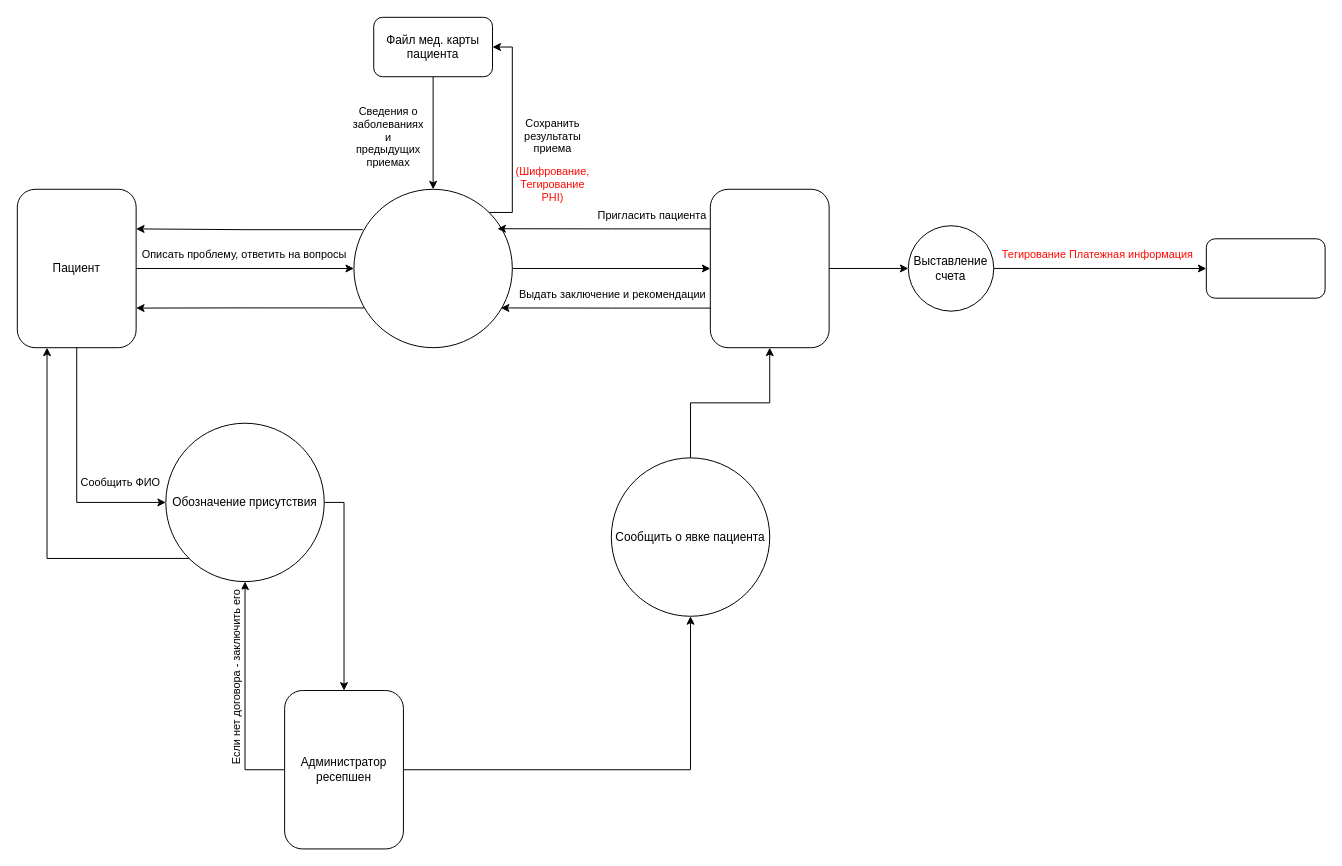
The diagram is 1342 pixels wide and 866 high, and some of its shapes have lost their labels. The centre of each missing label's shape, as x and y in pixels:
"Медицинский специалист" belongs at (769,268).
"Прием" belongs at (432,268).
"Файл взаиморасчетов пациента" belongs at (1265,268).
